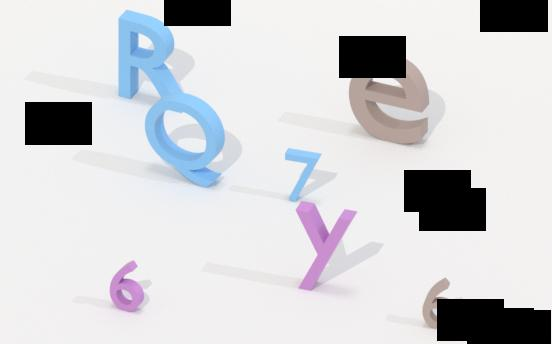6: (419, 276, 465, 332), (107, 259, 151, 312)
7: (283, 138, 325, 206)
R-hoa: (115, 8, 185, 105)
Y: (294, 201, 357, 297)
e: (346, 48, 434, 149)
q: (143, 93, 227, 189)
